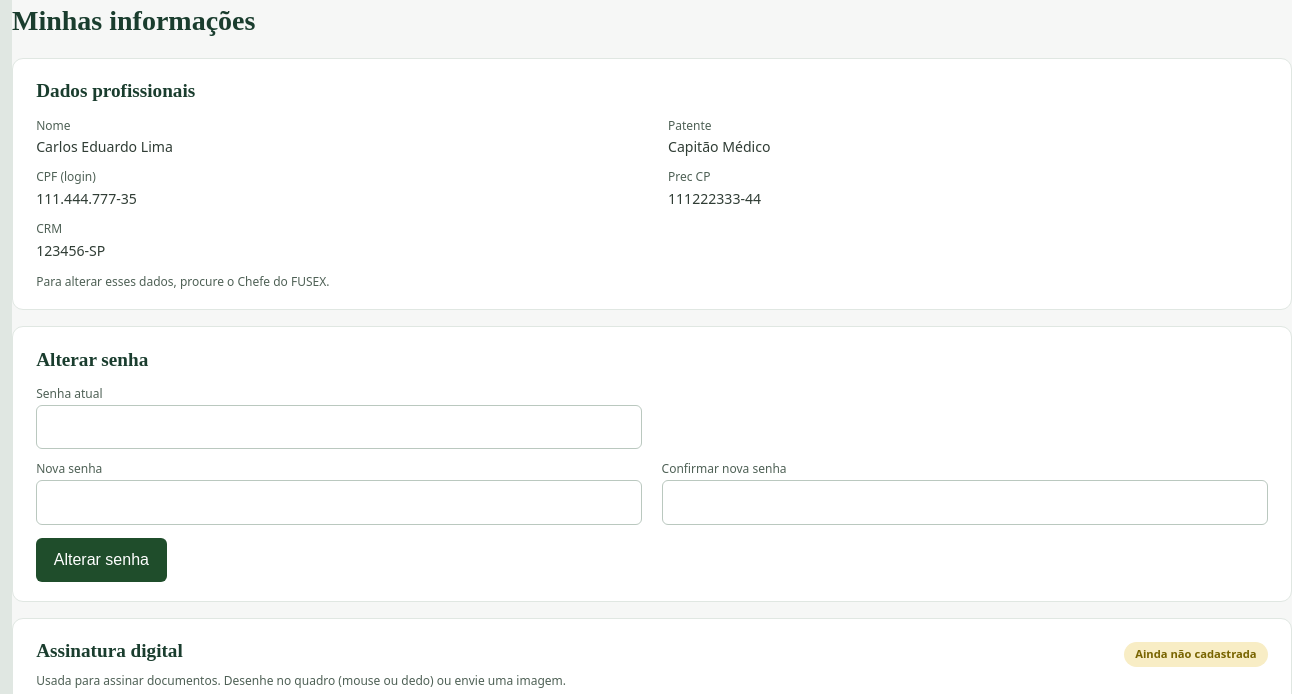
Test: Minhas informações do médico › senha correta mostra sucesso e limpa os três campos
Type "senha123" into the password field labelled "Senha atual" at (339, 427), box [36,405,642,449]
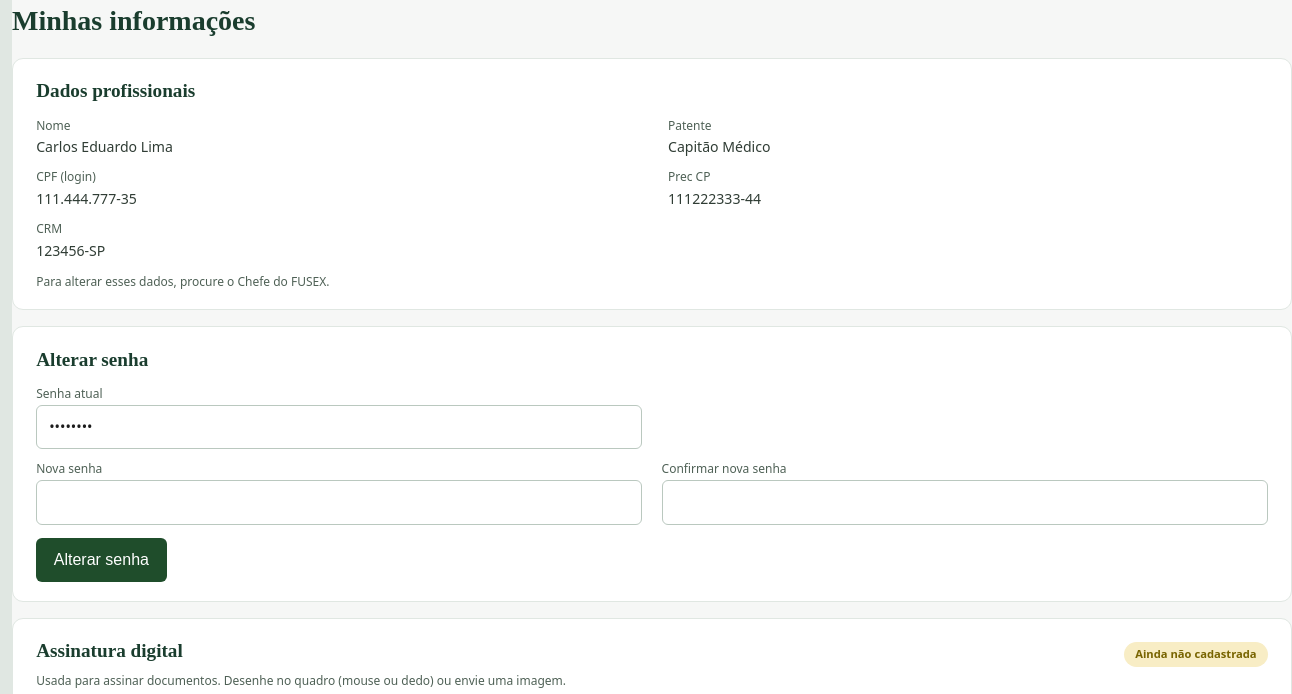
Type "nova12345" into the password field labelled "Nova senha" at (339, 503), box [36,480,642,525]
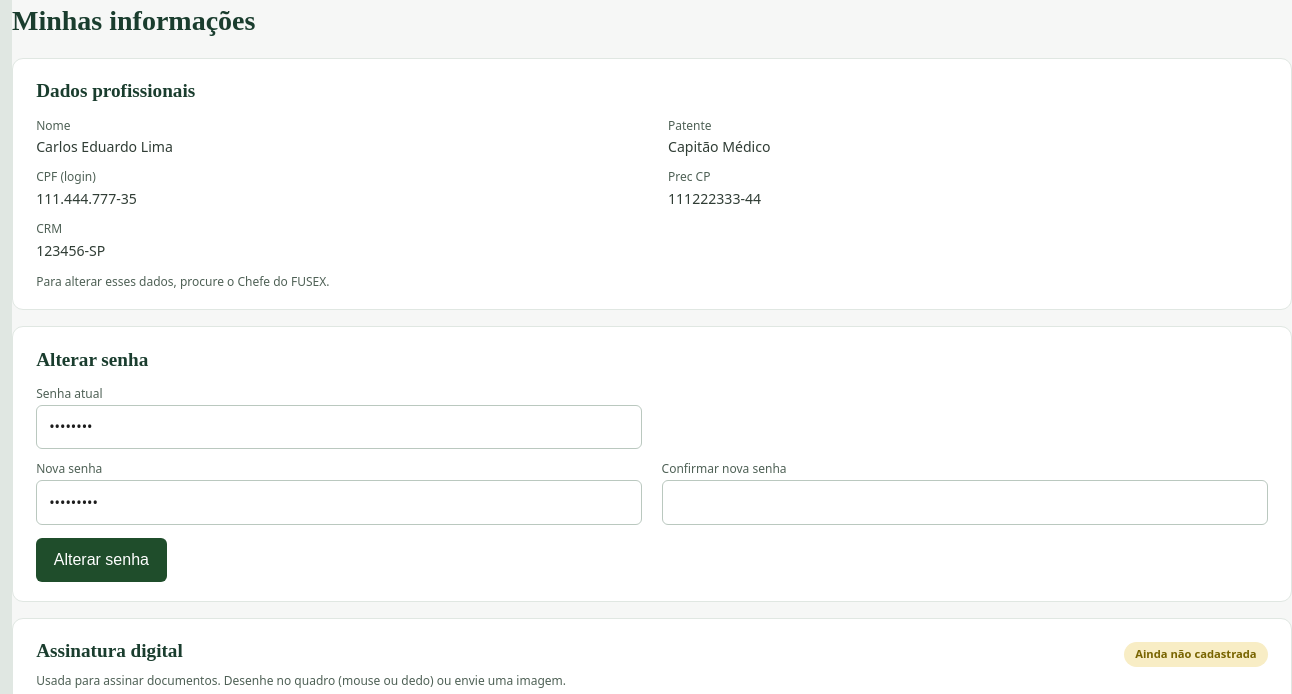
Type "nova12345" into the password field labelled "Confirmar nova senha" at (965, 503), box [662,480,1268,525]
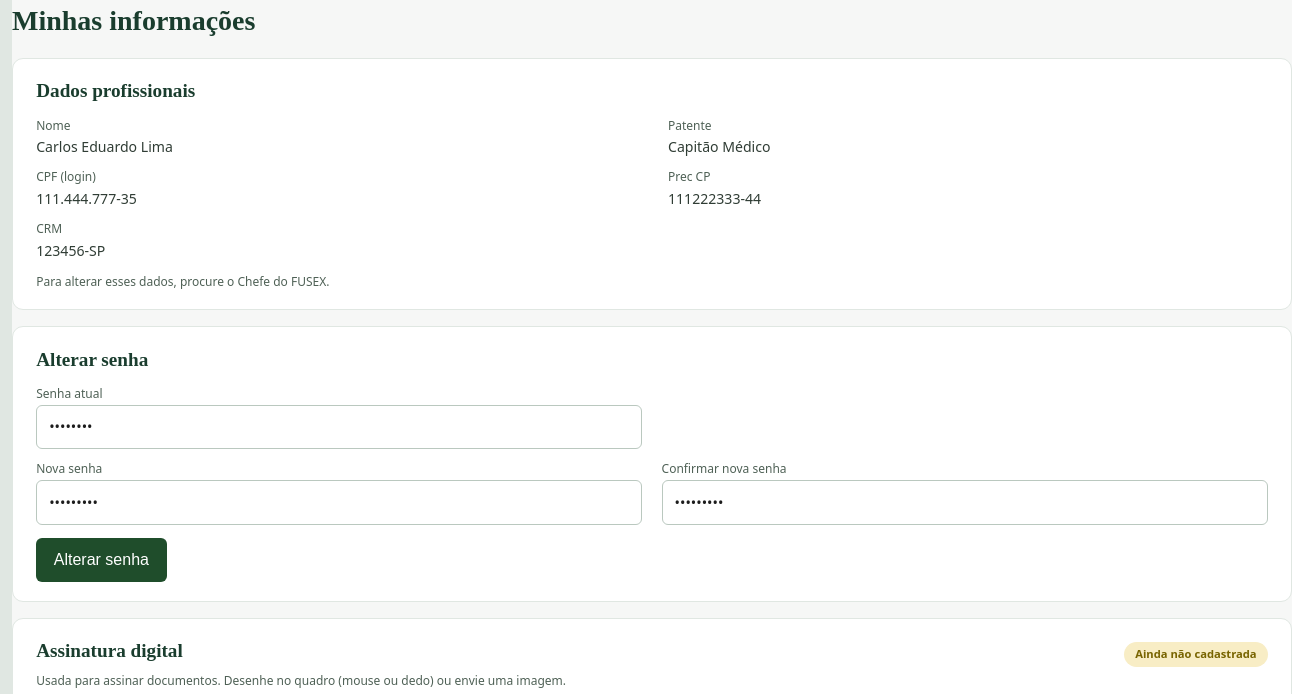
Click the button "Alterar senha" at (101, 560), box [36,538,167,582]
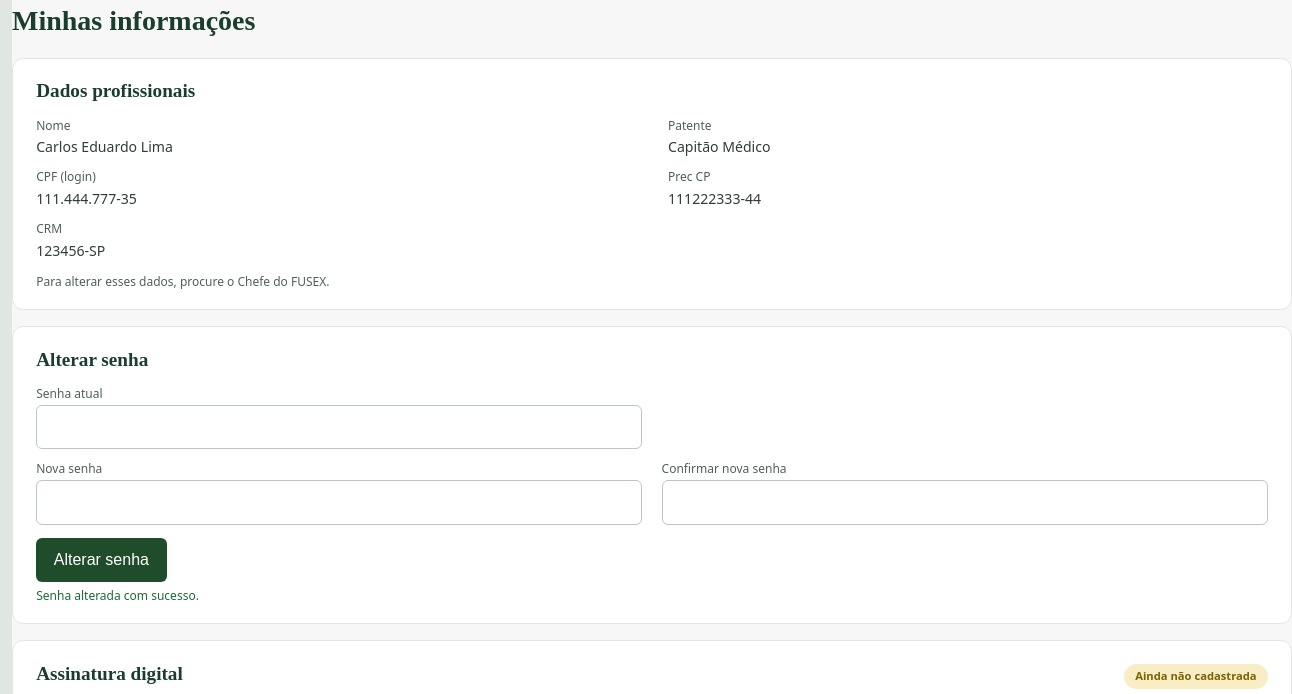
Expected: the text "Senha alterada com sucesso." is shown, [36,587,199,604]
Expected: the password field labelled "Senha atual" is empty, [36,405,642,449]
Expected: the password field labelled "Nova senha" is empty, [36,480,642,525]
